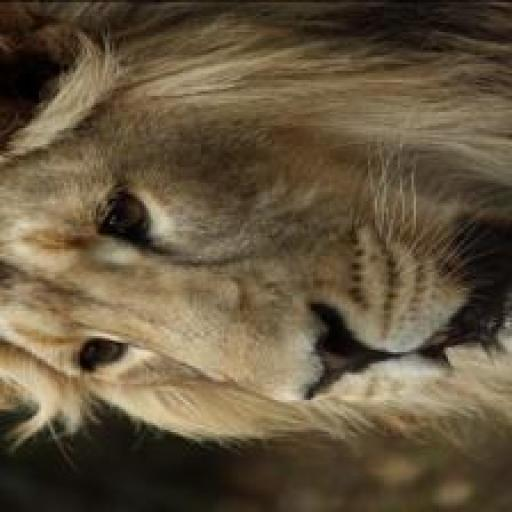lion: (4, 21, 511, 473)
